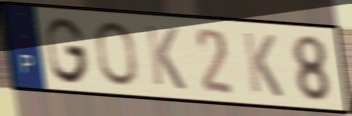2: (194, 27, 236, 98)
8: (289, 33, 333, 104)
G: (43, 15, 92, 86)
K: (240, 29, 286, 100), (143, 22, 188, 93)
O: (93, 19, 141, 89)
